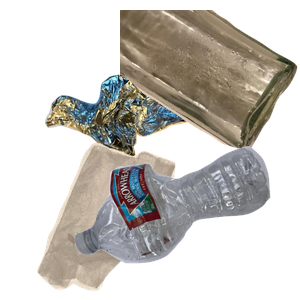glass: (120, 10, 300, 153)
metal: (42, 72, 239, 229)
plastic: (72, 144, 300, 300)
trash: (35, 140, 203, 300)
